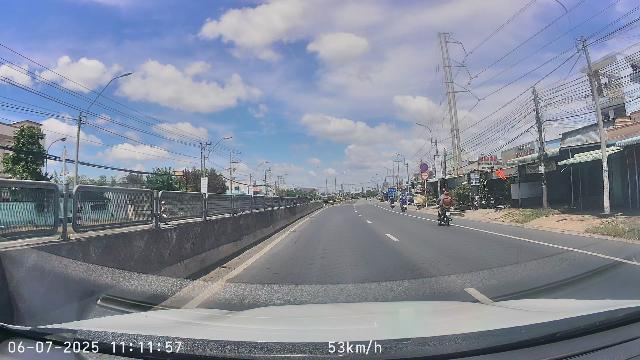125-cam-vuot: (421, 172, 429, 180)
130-cam-dung-va-do-xe: (420, 163, 429, 171)
